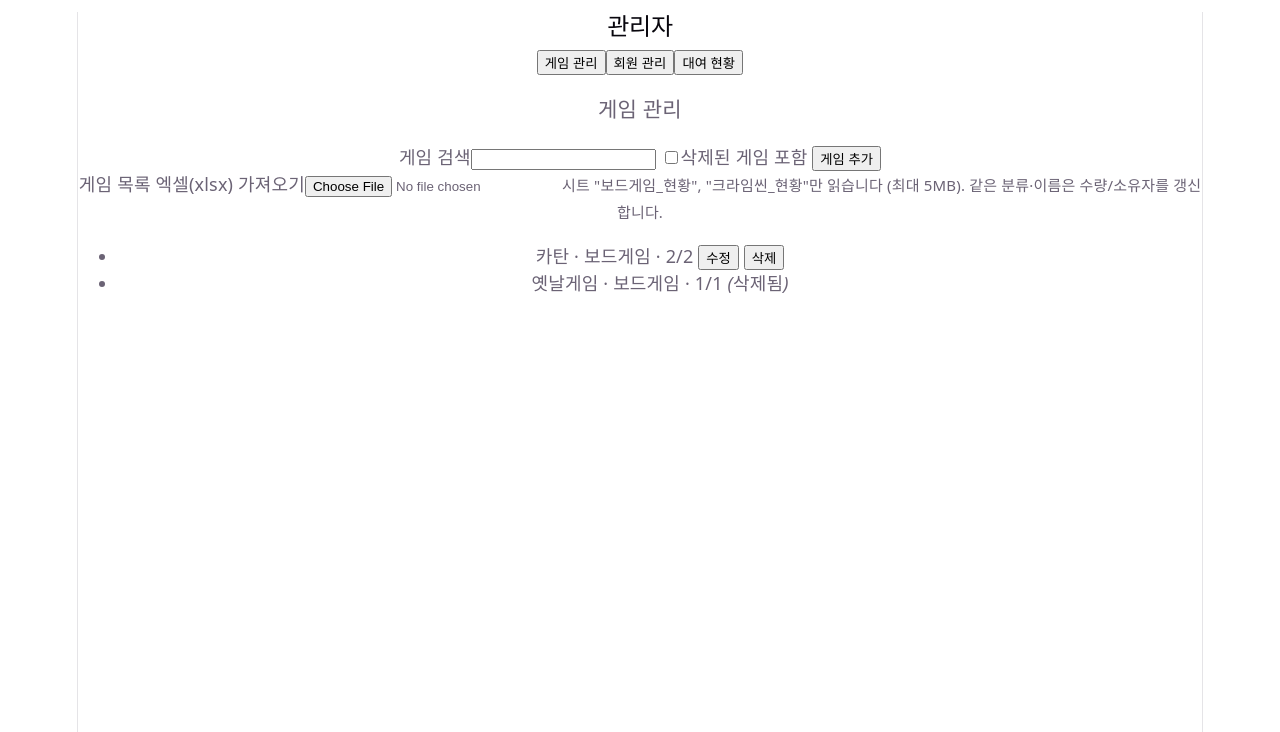
Scenario: AdminPage › 대여 현황에서 연체 목록, 회원별 누적을 보여주고 강제 반납한다
The image size is (1280, 732).
Later steps or results of the test are not shown.
What coordinates should you click on to do the following:
click the button "대여 현황"
I would click on:
 (709, 63)
Its box is [674,50,743,75].
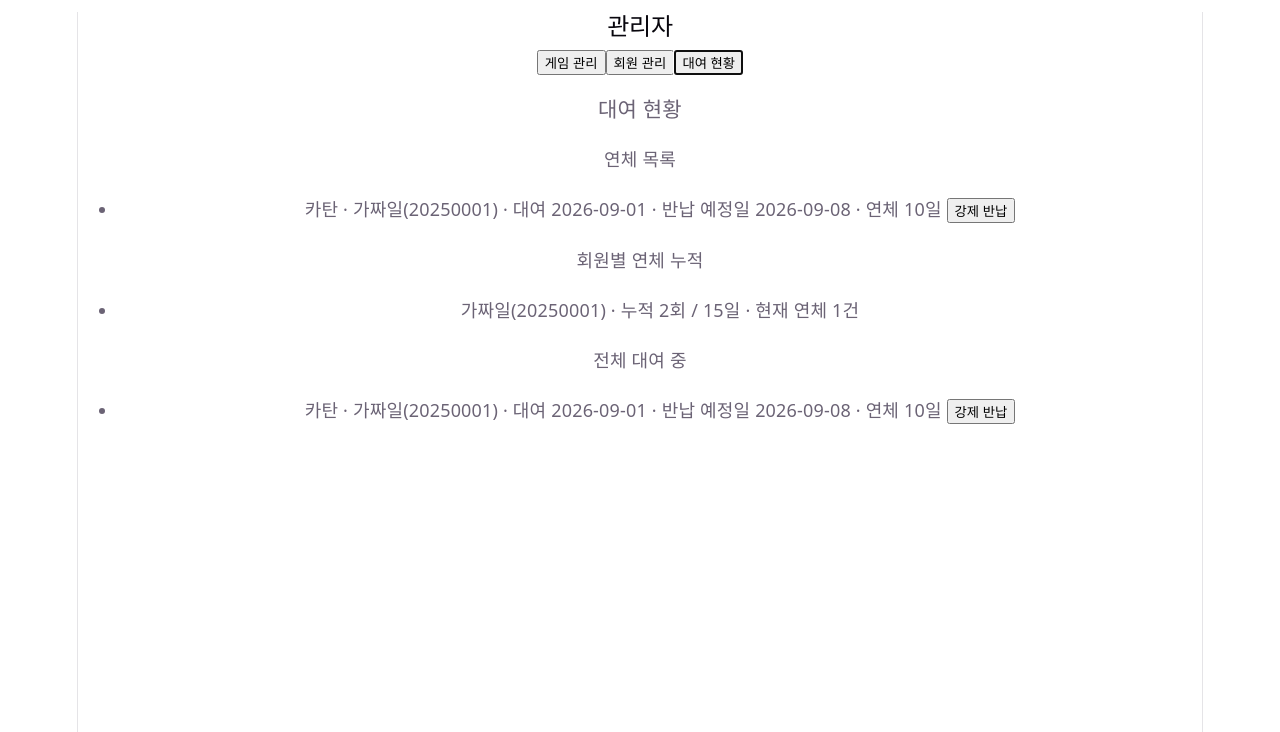
Result: the 1st list item "연체 10일" is shown at [851,197,942,221]
Result: the list named "회원별 연체 누적" shows "누적 2회 / 15일" at [461,298,859,322]
